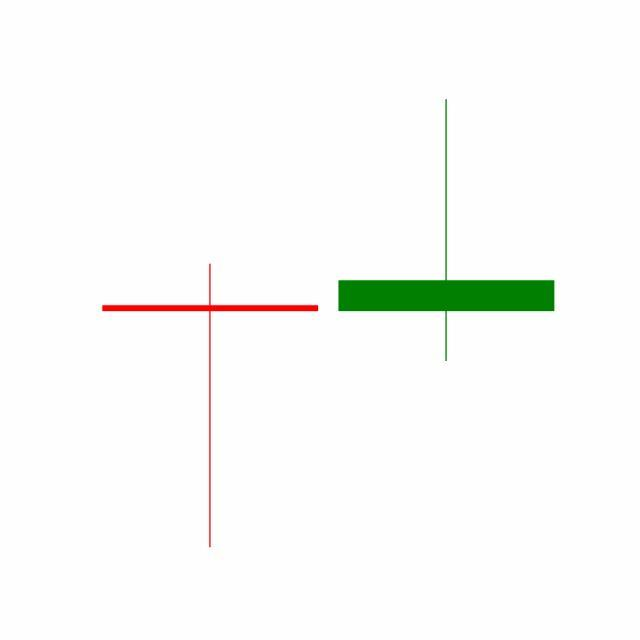Gravestone Doji: (328, 97, 566, 365)
